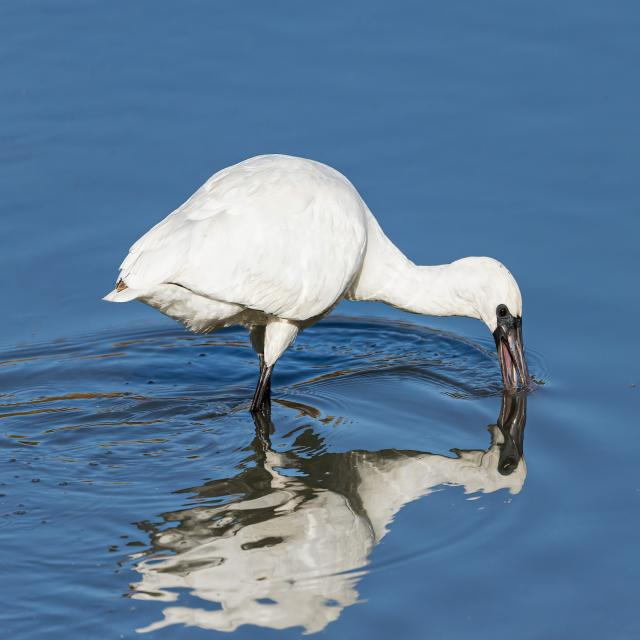Black-faced spoonbill: (105, 156, 531, 410)
